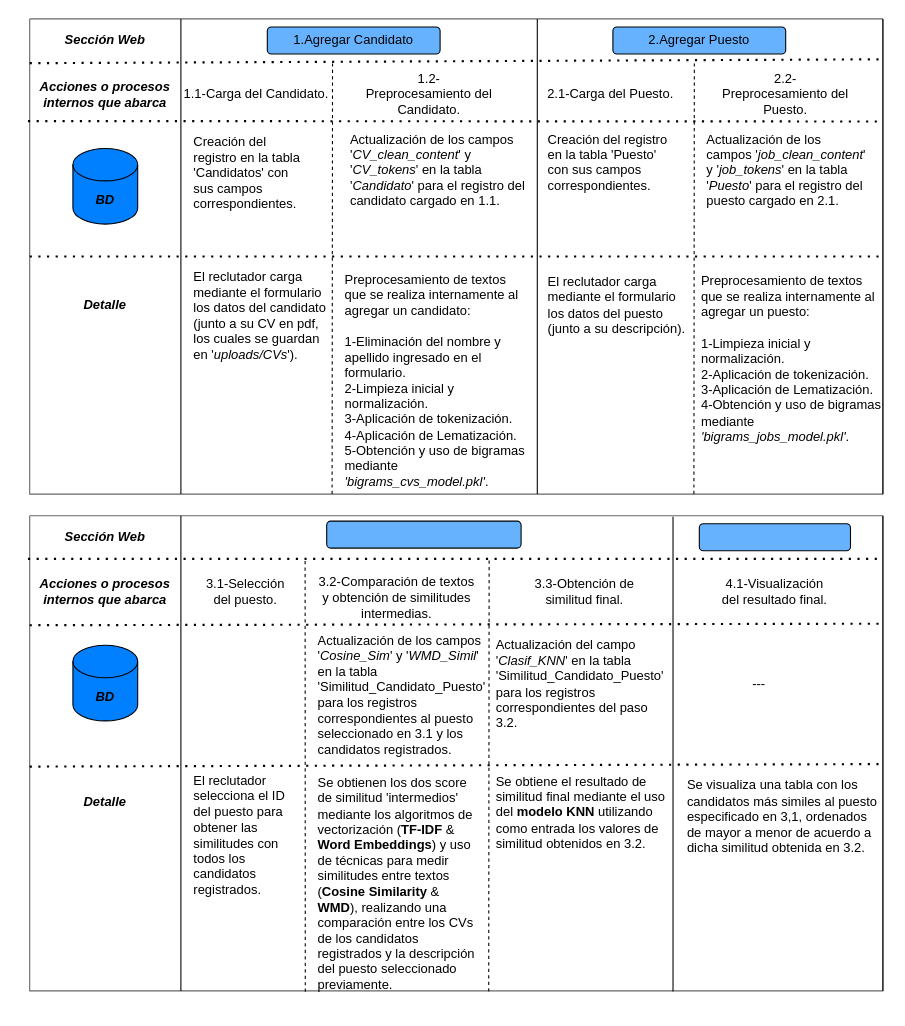
The diagram is 905 pixels wide and 1026 high, and some of its shapes have lost their labels. The centre of each missing label's shape, as x and y in pixels:
"3.Búsqueda del mejor candidato" goes at point (423, 534).
"4.Resultados finales" goes at point (774, 537).
